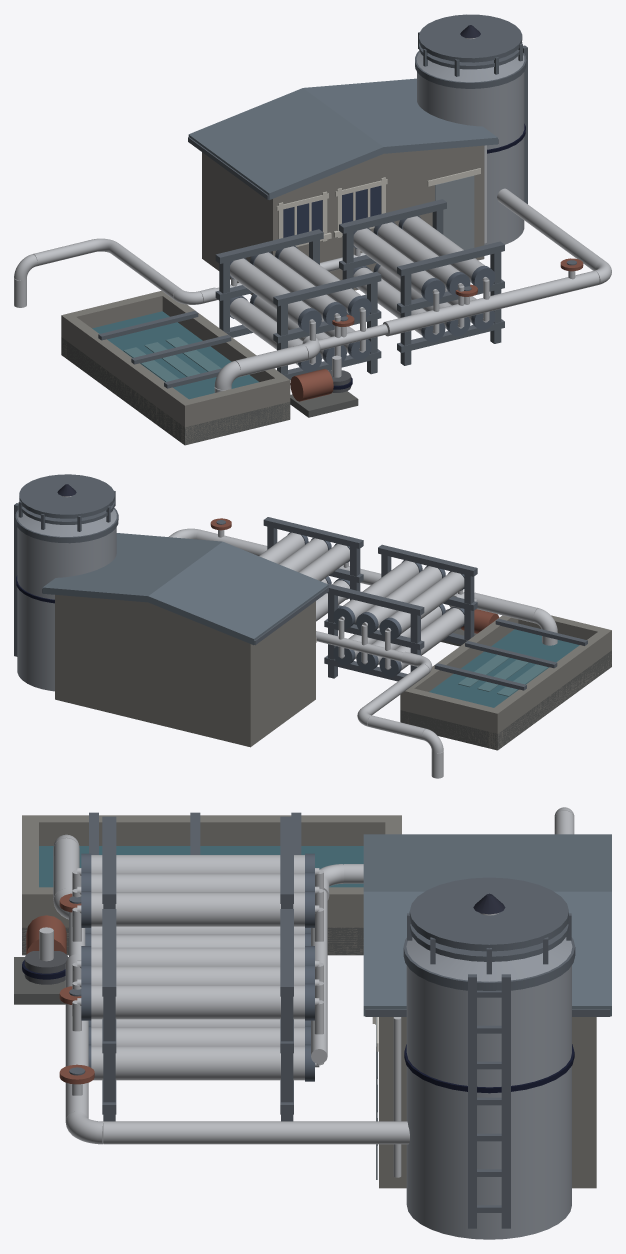
Rendered from desal_lvl2.glb.
3 renders of one model, top to bottom at view 1: azimuth 30°, elevation 25°; view 2: azimuth 150°, elevation 25°; view 3: azimuth 270°, elevation 25°, orthographic. The views are drawn at different scales.
Parts seen in each view (by area): view 1: desal; view 2: desal; view 3: desal.
Boxes of the visible parts, box(x1,y1,x2,y2) form: desal: box(14, 14, 611, 445); desal: box(14, 474, 611, 778); desal: box(14, 807, 611, 1239).
Bounding box in the file's own units: 1 × 0.3944 × 0.6902.
